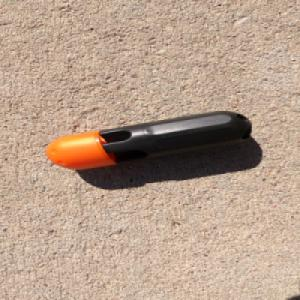PlasticPart: (44, 110, 253, 170)
